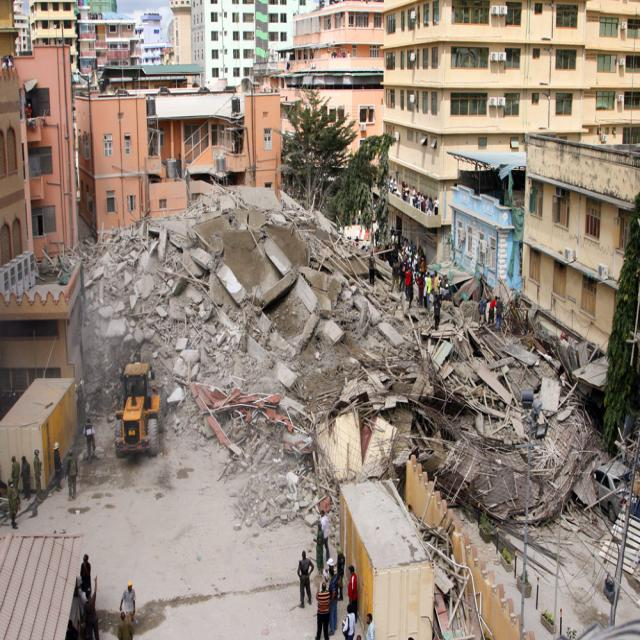collapsed building: (89, 159, 454, 389), (442, 381, 616, 543)
